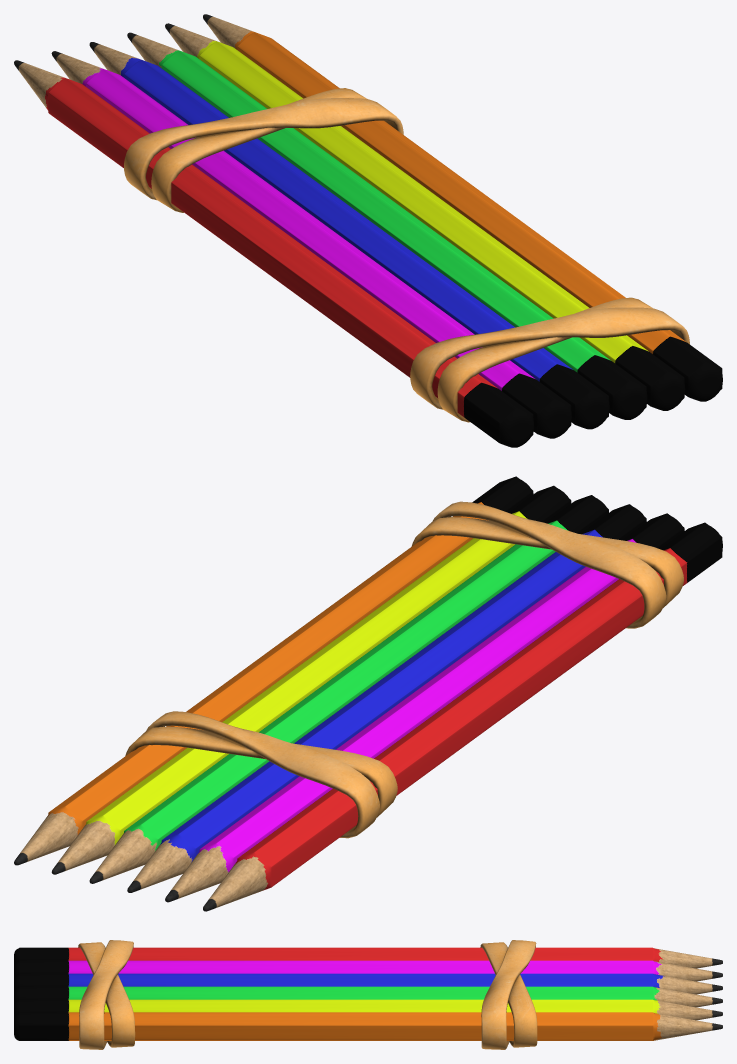
The model's file is PencilBridge.fbx.
The picture shows the model from 3 angles, top to bottom: view 1: azimuth 30°, elevation 25°; view 2: azimuth 150°, elevation 25°; view 3: azimuth 270°, elevation 25°; orthographic projection. The views are drawn at different scales.
Visible parts, largest first — view 1: Cylinder; view 2: Cylinder; view 3: Cylinder.
Part boxes in pixels (x1,y1,x2,y2): Cylinder: (14, 14, 722, 447); Cylinder: (14, 476, 722, 911); Cylinder: (14, 940, 722, 1049).
Size of the model in its own units: 223 by 64.46 by 804.
